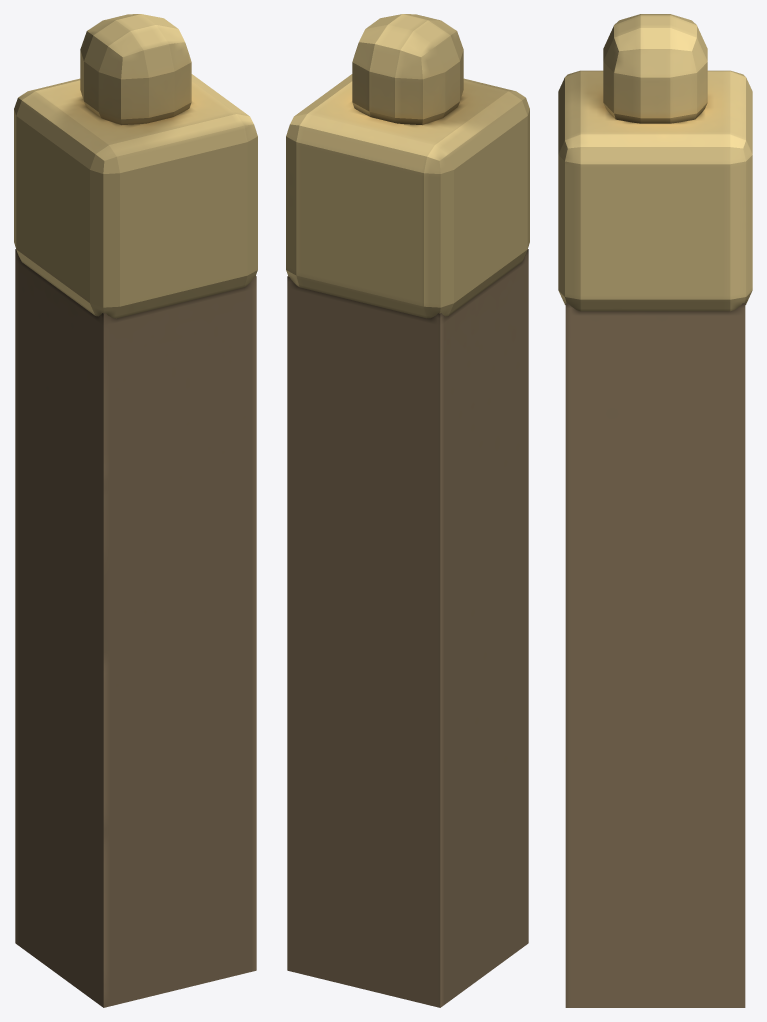
File: torch.glb
The picture shows the model from 3 angles, left to right: view 1: azimuth 30°, elevation 25°; view 2: azimuth 150°, elevation 25°; view 3: azimuth 270°, elevation 25°; orthographic projection.
Parts seen in each view (by area): view 1: torch; view 2: torch; view 3: torch.
Part boxes in pixels (box(x1,y1,x2,y2)): torch: box(14, 14, 257, 1007); torch: box(286, 14, 529, 1007); torch: box(558, 14, 752, 1007).
Size of the model in its own units: 0.13 by 0.7 by 0.13.
2 materials, 2 textured.
